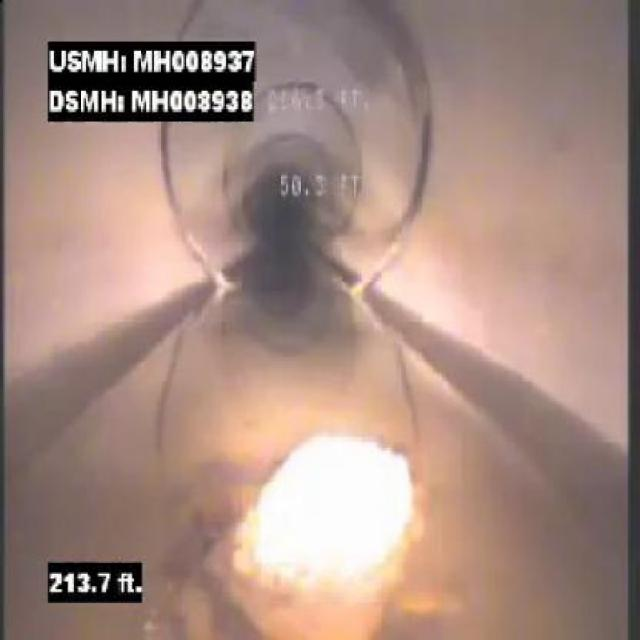Debris: (211, 400, 454, 615)
